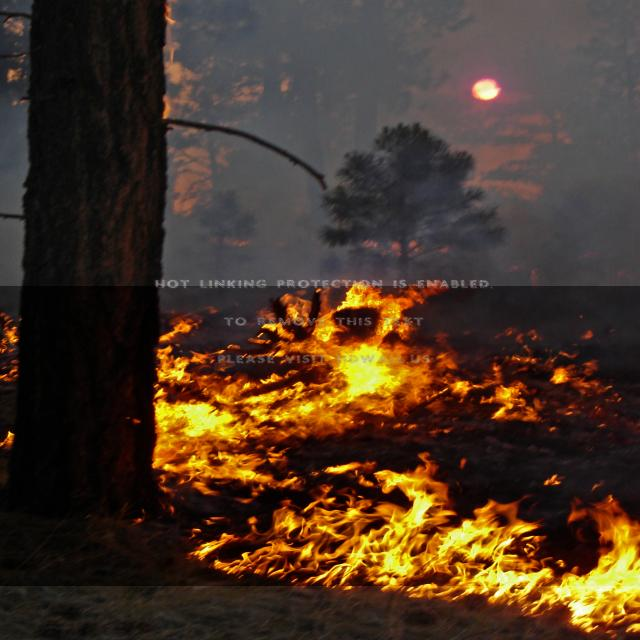Fire: (0, 286, 640, 586)
